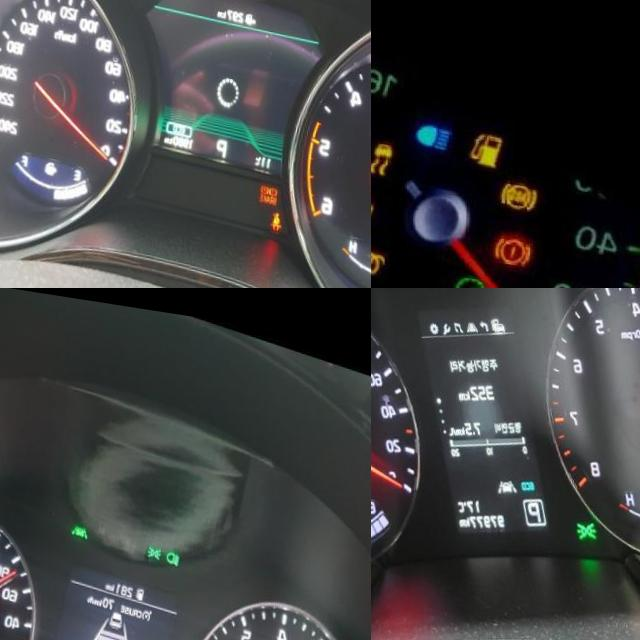LaneCenteringOff: (499, 464, 521, 487)
Low beam: (168, 539, 184, 555)
SideLamp: (579, 504, 603, 530), (150, 534, 165, 550)
